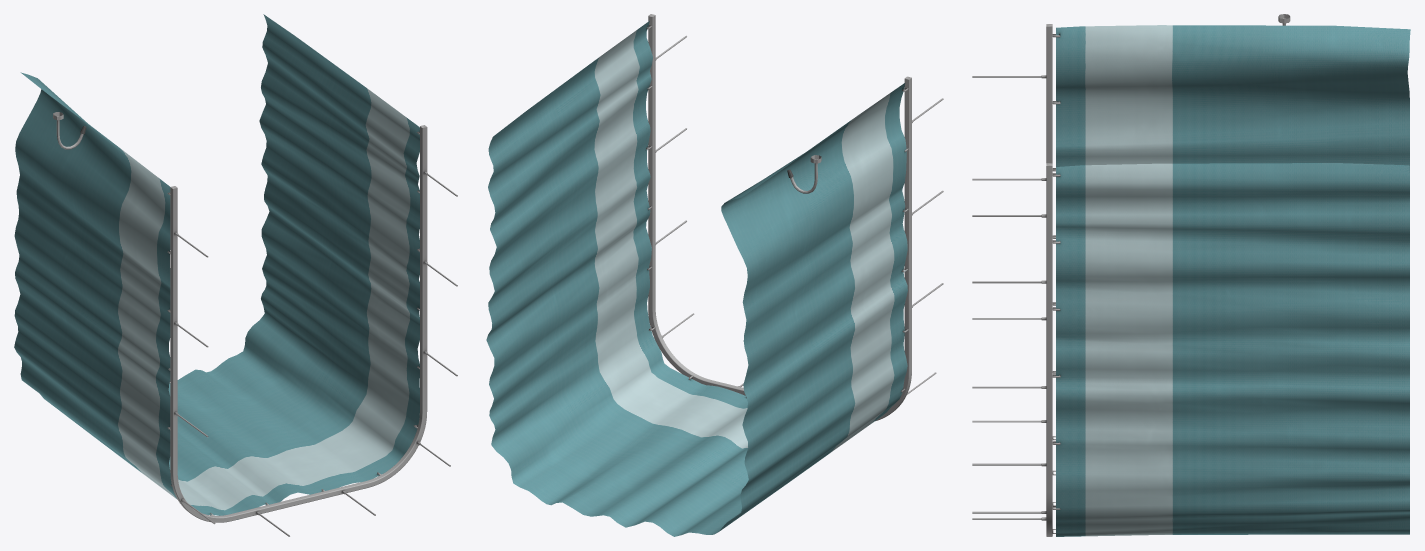
Rendered from aws_robomaker_hospital_curtain_closed_01_visual.dae.
The picture shows the model from 3 angles, left to right: view 1: azimuth 30°, elevation 25°; view 2: azimuth 150°, elevation 25°; view 3: azimuth 270°, elevation 25°; orthographic projection. The views are drawn at different scales.
Visible parts, largest first — view 1: aws_robomaker_hospital_curtain_closed_01_visual, aws_robomaker_hospital_curtainrail_01_visual; view 2: aws_robomaker_hospital_curtain_closed_01_visual, aws_robomaker_hospital_curtainrail_01_visual; view 3: aws_robomaker_hospital_curtain_closed_01_visual, aws_robomaker_hospital_curtainrail_01_visual.
Part boxes in pixels (left/top/right/bottom): aws_robomaker_hospital_curtain_closed_01_visual: left=14, top=14, right=419, bottom=519; aws_robomaker_hospital_curtainrail_01_visual: left=53, top=112, right=457, bottom=536; aws_robomaker_hospital_curtain_closed_01_visual: left=486, top=21, right=908, bottom=536; aws_robomaker_hospital_curtainrail_01_visual: left=648, top=14, right=943, bottom=421; aws_robomaker_hospital_curtain_closed_01_visual: left=1052, top=25, right=1410, bottom=536; aws_robomaker_hospital_curtainrail_01_visual: left=972, top=14, right=1290, bottom=536.
Size of the model in its own units: 239 by 297 by 293.
2 materials, 2 textured.
